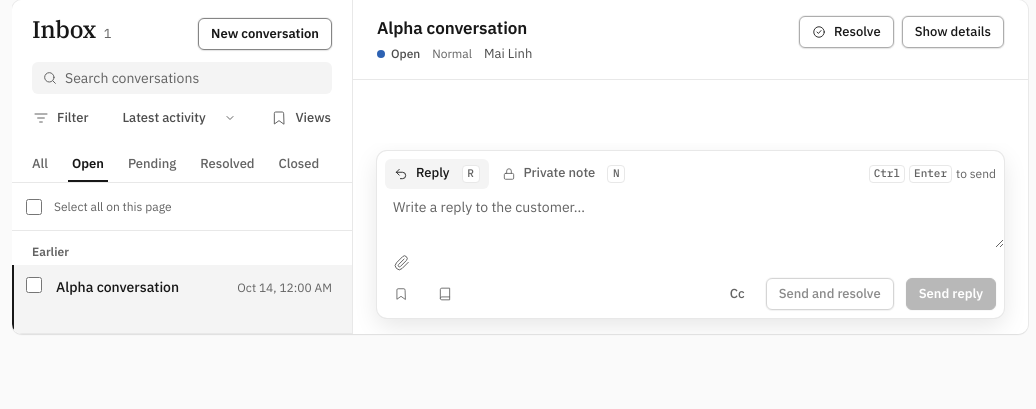
Test case: Send and resolve posts the reply first and resolves through the conversation update only after it
Expected: the button "Alpha conversation Oct 14, 12:00 AM" is shown, [12,265,352,334]
In the text box named "Message body": (690, 218) [377,189,1004,248], type "All done"
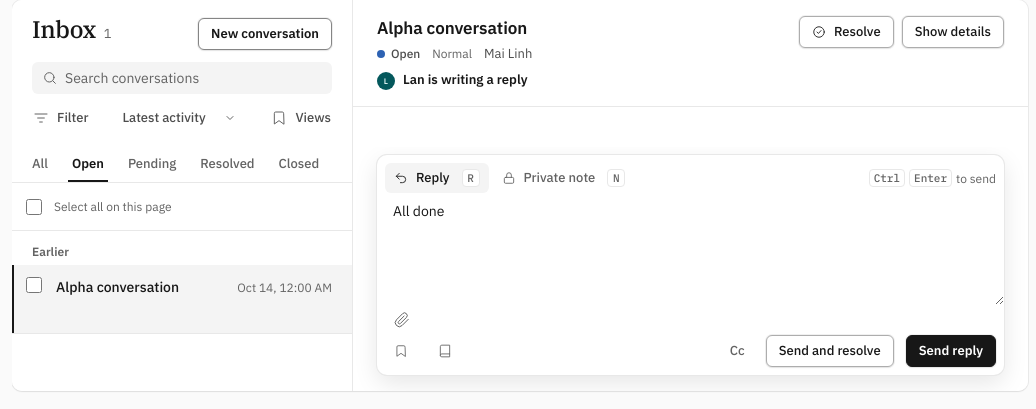
Click the button "Send and resolve": click(830, 352) [766,336,894,368]
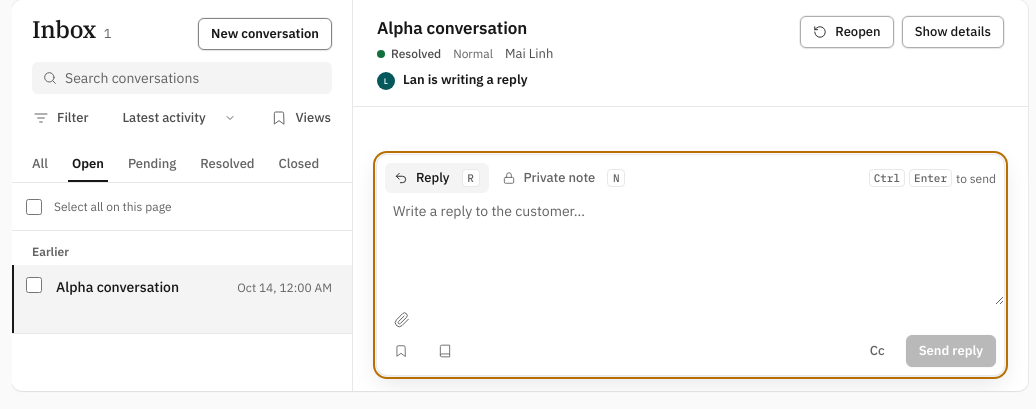
Now the button "Reopen" is shown, box [800,16,894,48]
